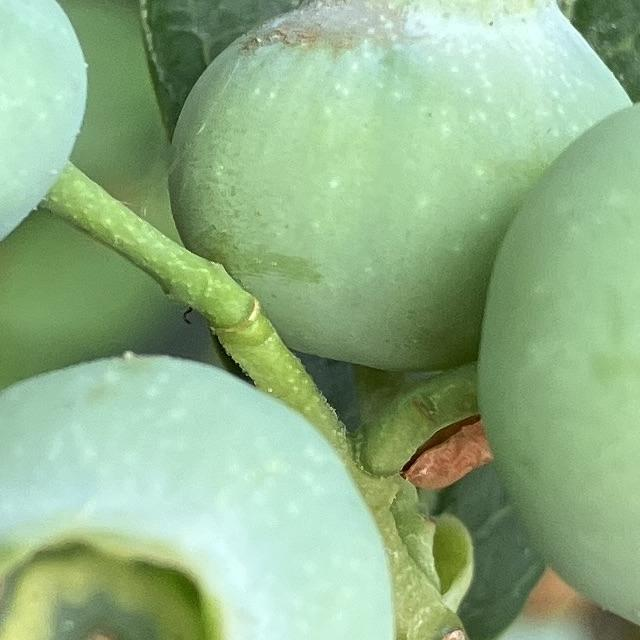Blueberries: (0, 348, 396, 640), (474, 80, 640, 640)
